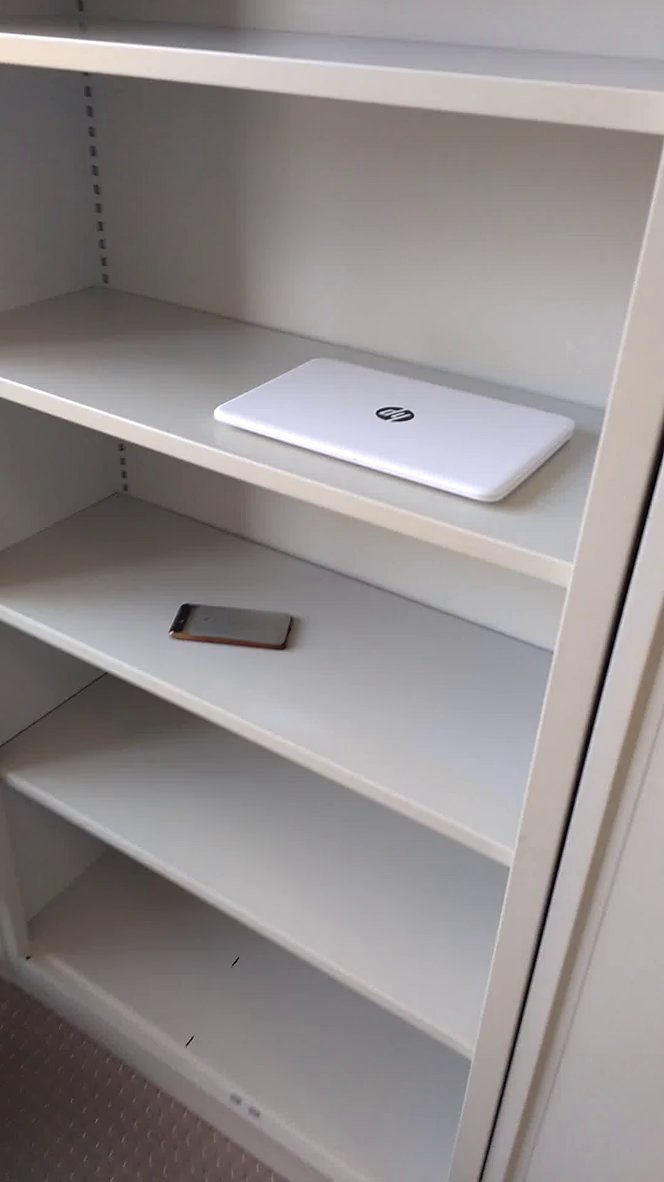laptop: (203, 336, 585, 536)
phone: (164, 597, 307, 656)
